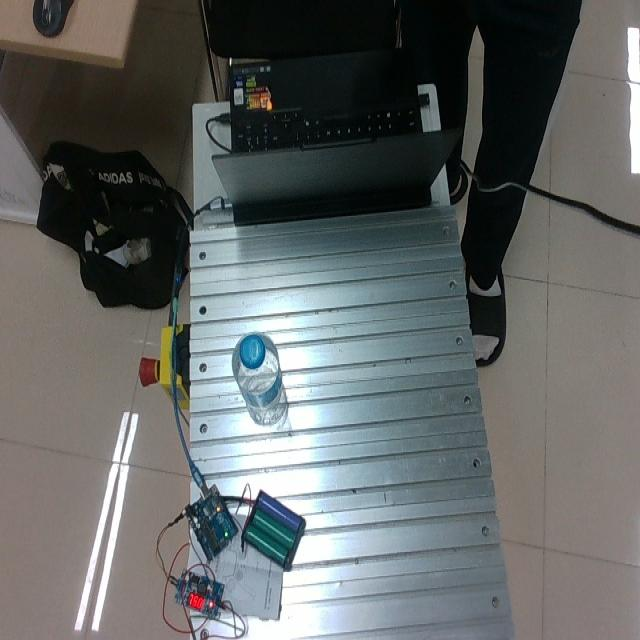lavie: (232, 332, 286, 427)
